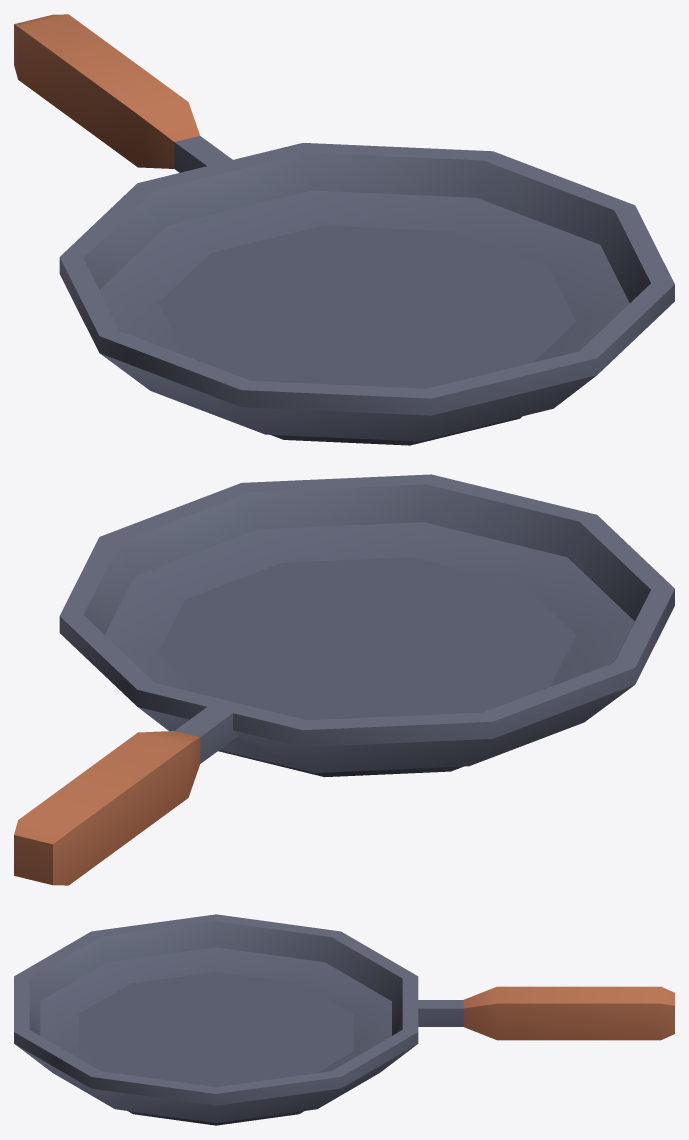
Rendered from frying-pan.glb.
The picture shows the model from 3 angles, top to bottom: view 1: azimuth 30°, elevation 25°; view 2: azimuth 150°, elevation 25°; view 3: azimuth 270°, elevation 25°; orthographic projection. The views are drawn at different scales.
Visible parts, largest first — view 1: frying-pan; view 2: frying-pan; view 3: frying-pan.
Boxes of the visible parts, bbox=[...] form: frying-pan: bbox=[14, 14, 674, 445]; frying-pan: bbox=[14, 474, 674, 885]; frying-pan: bbox=[14, 914, 674, 1125].
Size of the model in its own units: 0.6574 by 0.1206 by 1.02.
